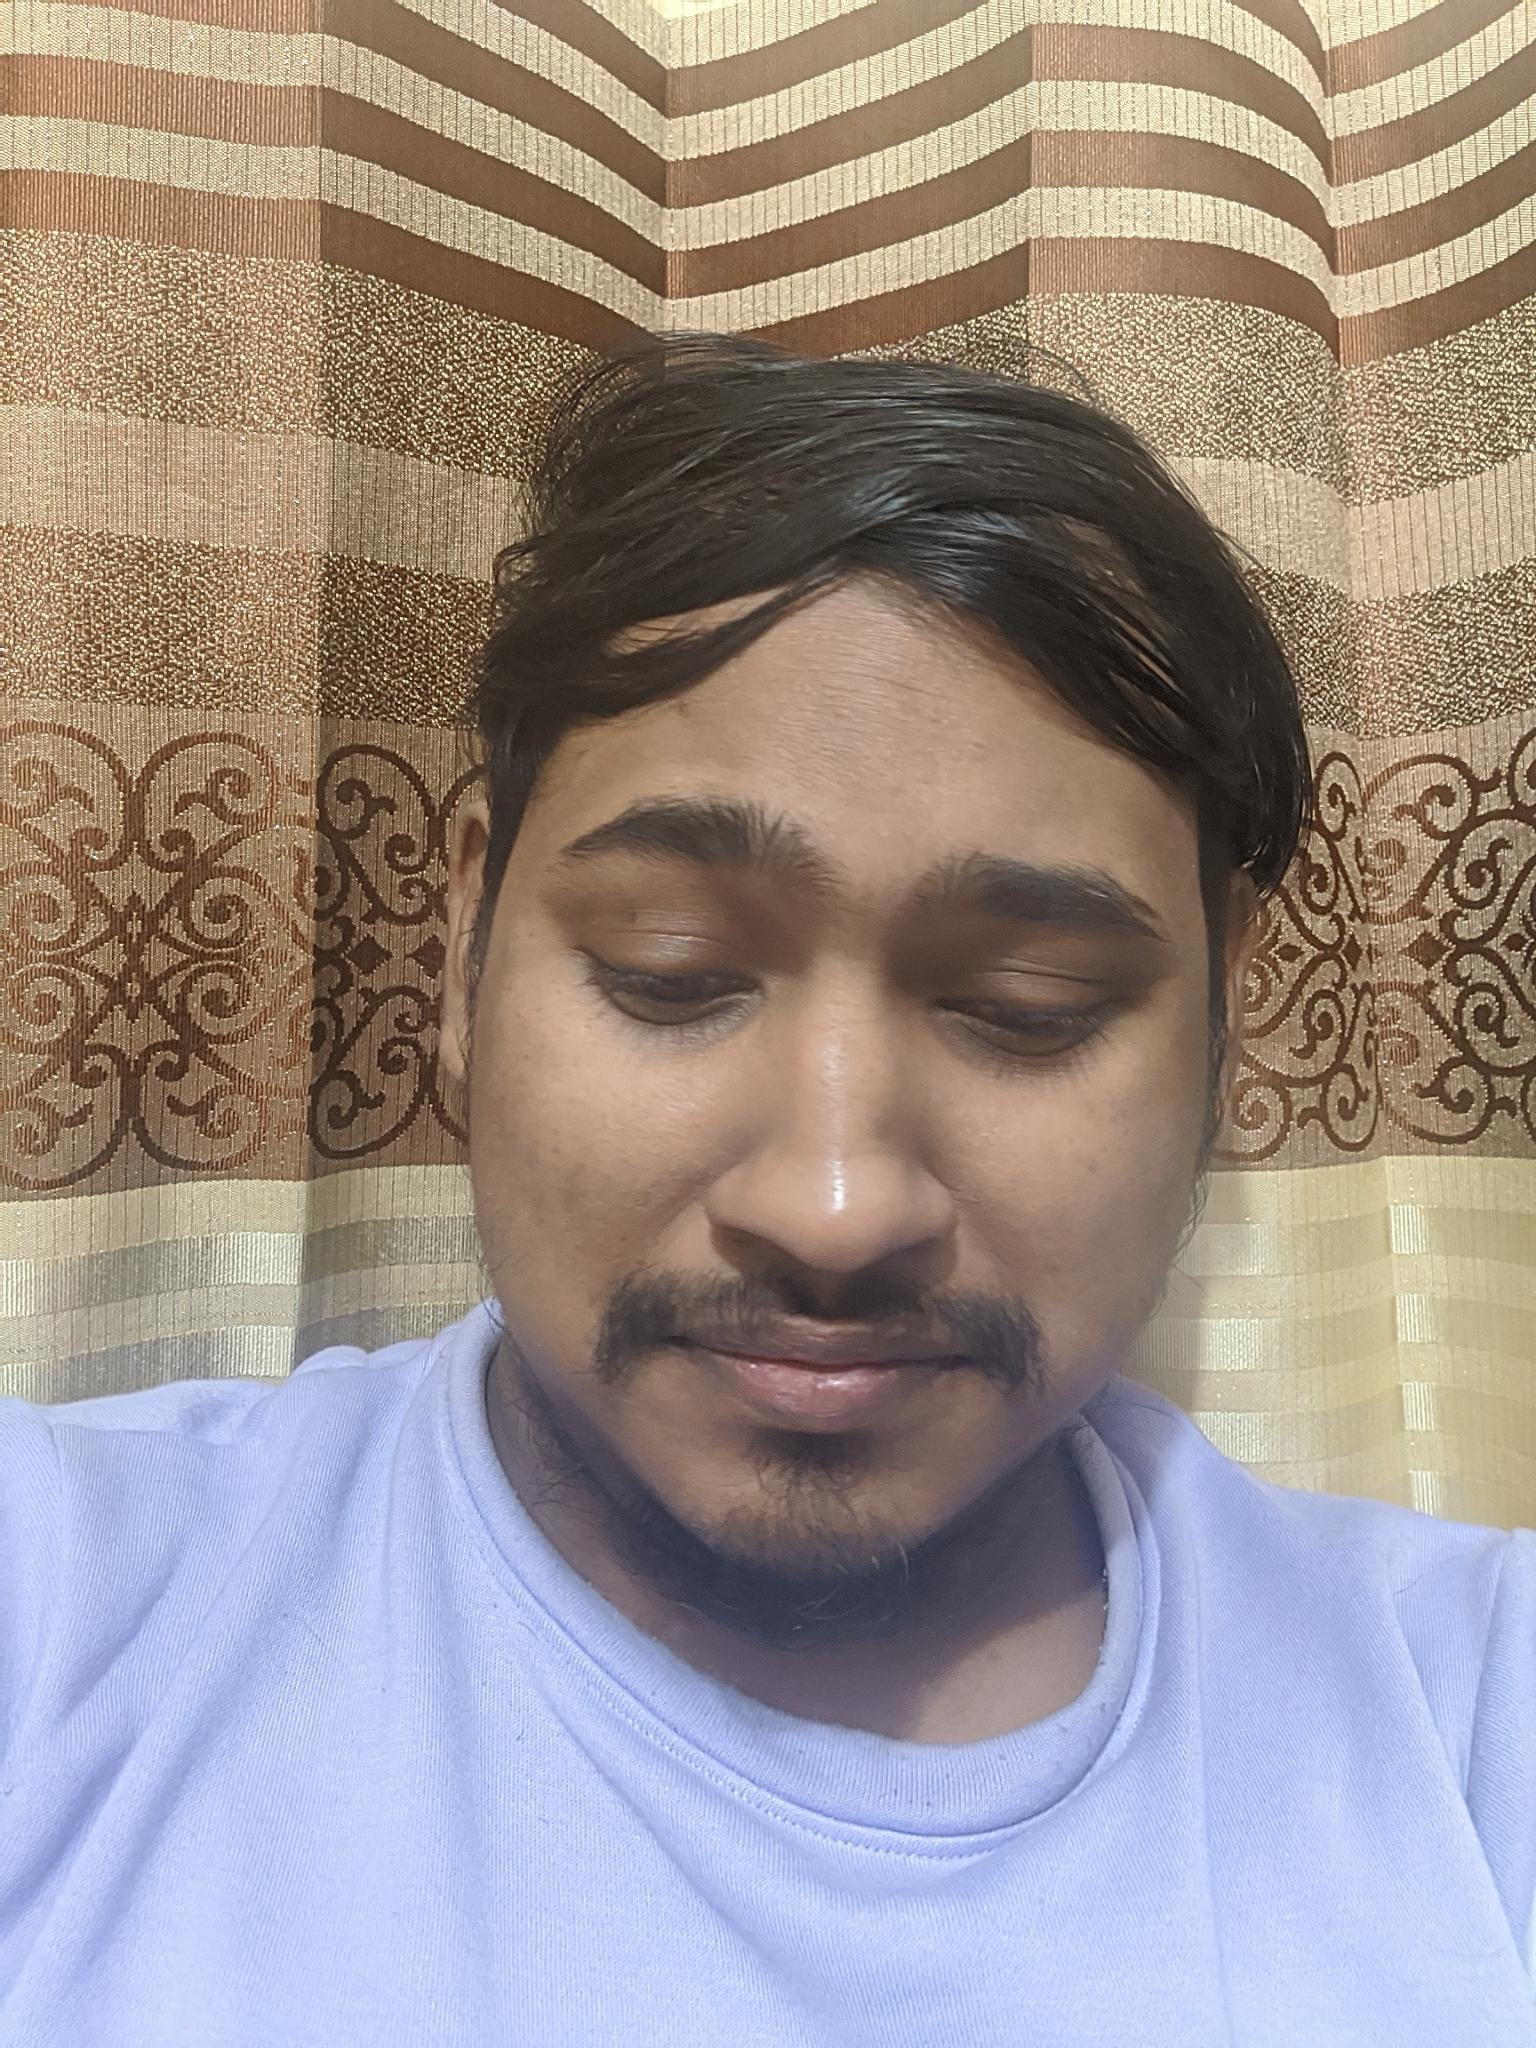Sad: (473, 729, 1197, 1574)
